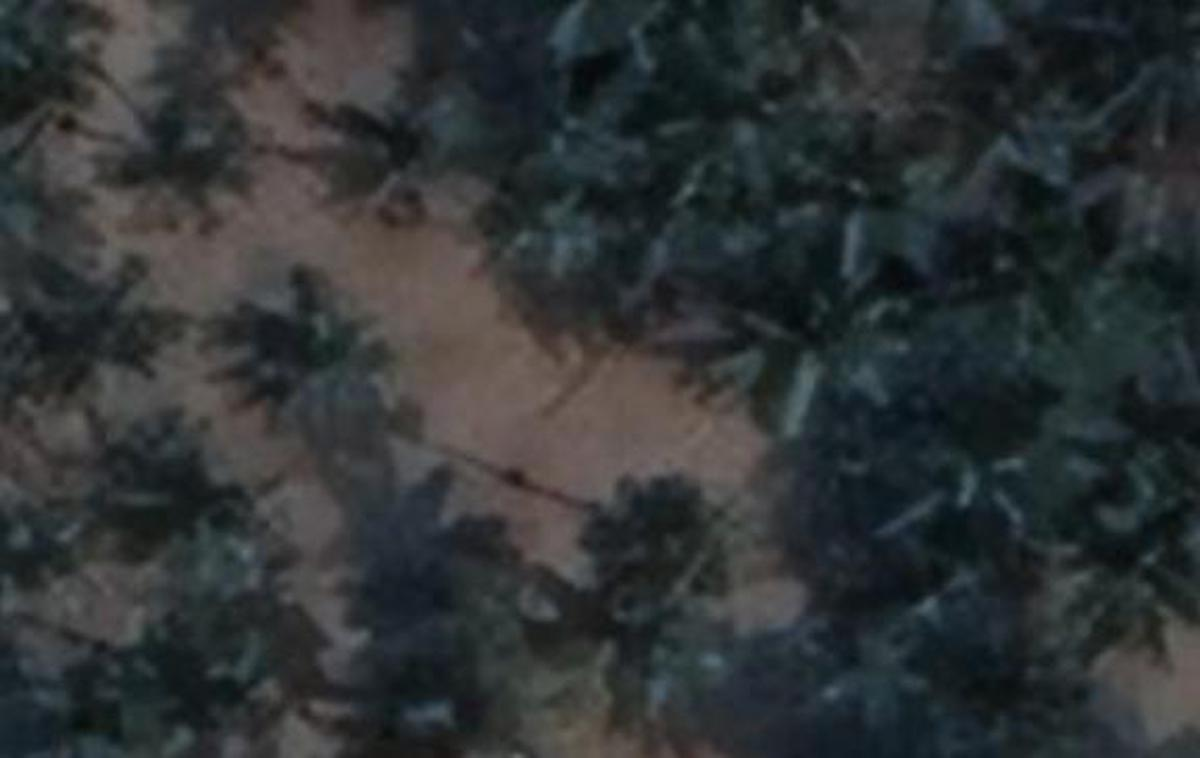coconut: (739, 264, 920, 433), (241, 272, 416, 435), (975, 174, 1141, 339), (570, 558, 733, 718), (766, 112, 918, 262), (331, 91, 491, 229), (125, 458, 283, 595), (654, 245, 791, 403), (18, 251, 170, 393), (118, 99, 266, 239), (820, 580, 964, 722), (895, 408, 1035, 553), (131, 635, 293, 758), (672, 52, 814, 187), (1066, 493, 1195, 641), (1060, 0, 1200, 135), (943, 58, 1070, 197), (0, 20, 125, 141), (500, 172, 612, 285)
